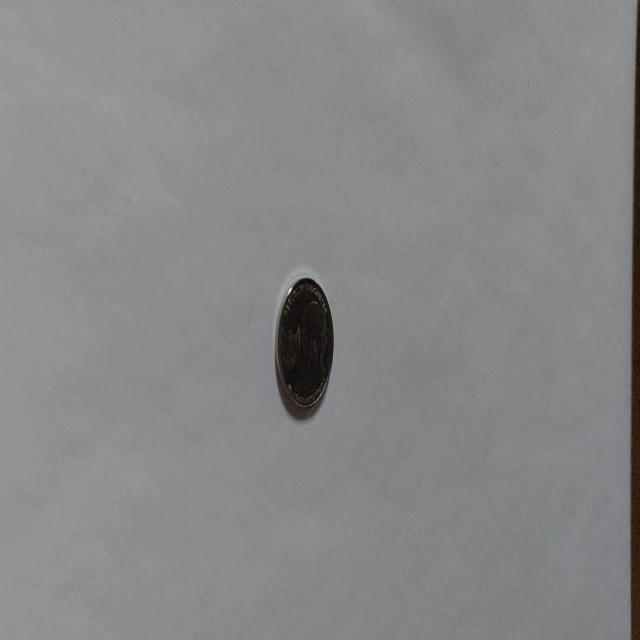seribu rupiah koin: (274, 274, 334, 414)
